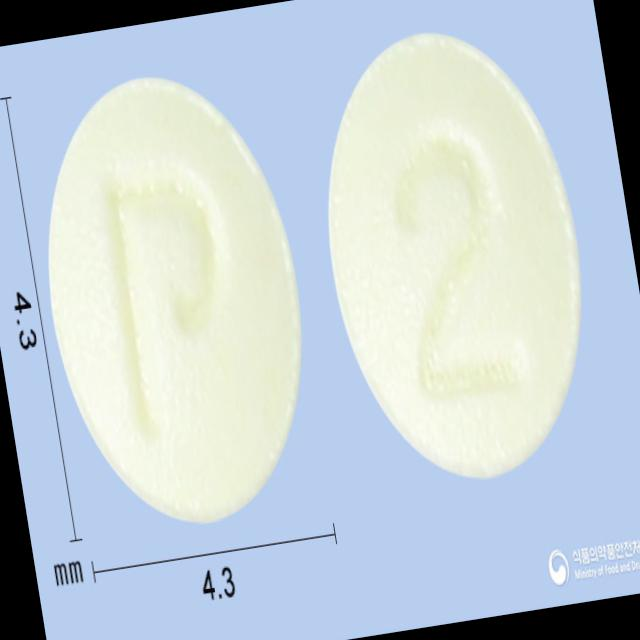Azabio - 25mg: (14, 53, 339, 549)
